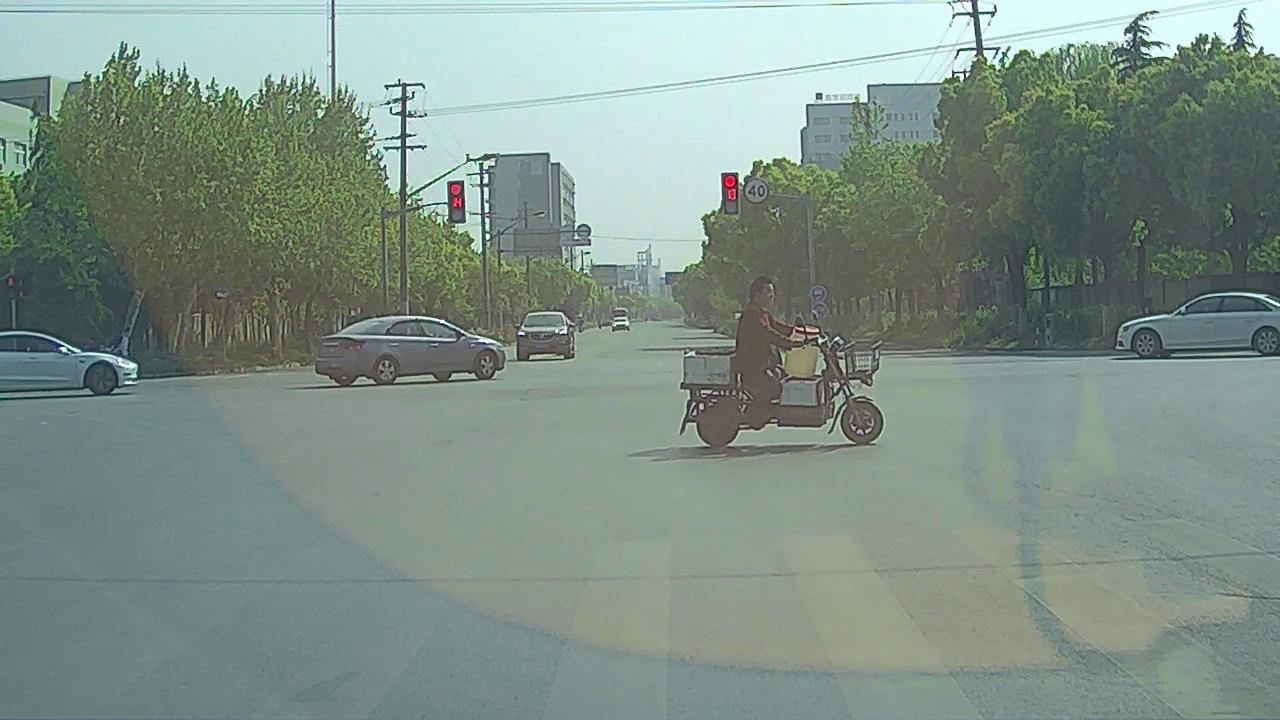traffic_light: (721, 173, 739, 214), (448, 181, 465, 223)
